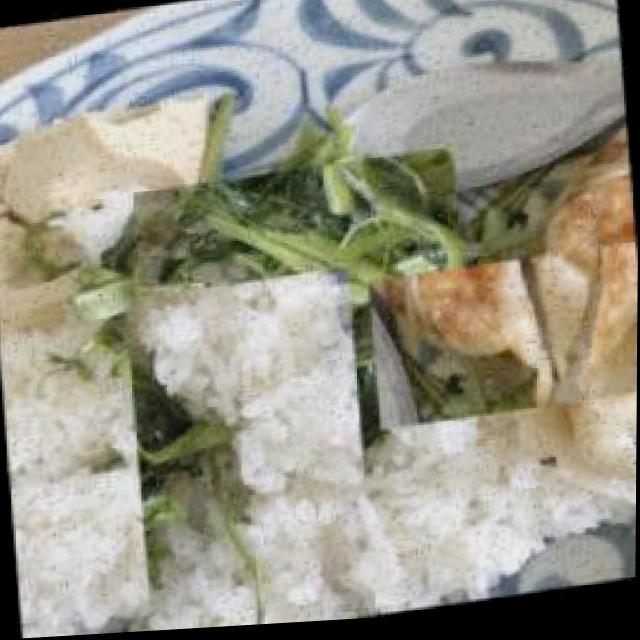fried_dumplings: (419, 188, 639, 483)
rice: (61, 321, 441, 637)
water_spinach: (133, 151, 474, 402)
